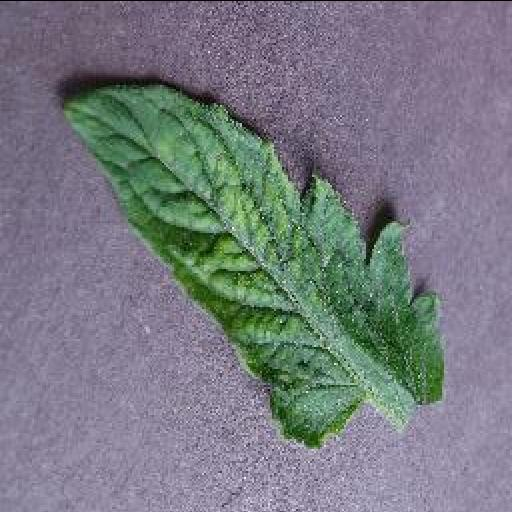disease_tomato: (58, 80, 444, 446)
